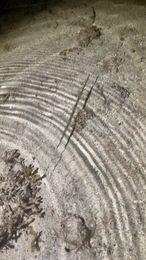Fistularia commersonii: (51, 63, 98, 177)
